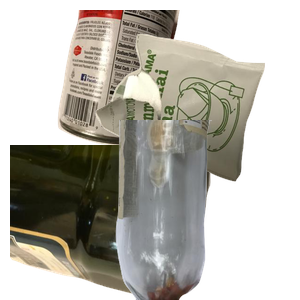glass: (113, 120, 300, 300)
metal: (55, 10, 227, 149)
plastic: (10, 145, 213, 300)
trash: (93, 31, 300, 205)
